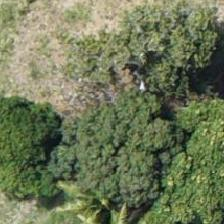coconut_tree: (52, 155, 142, 223)
